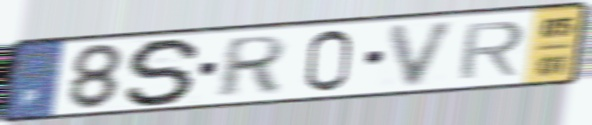0: (303, 27, 354, 94)
8: (65, 42, 127, 112)
R: (212, 32, 291, 100), (454, 18, 529, 82)
S: (122, 35, 208, 108)
V: (385, 17, 463, 89)
